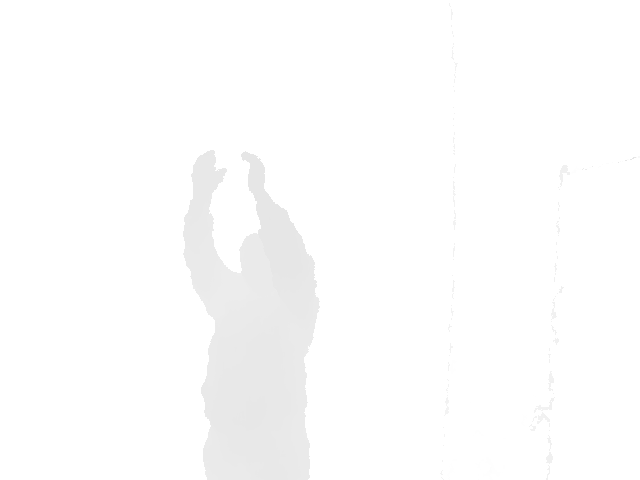hand: (190, 149, 228, 198), (239, 148, 268, 192)
head: (237, 230, 277, 289)
person: (181, 148, 323, 480)
